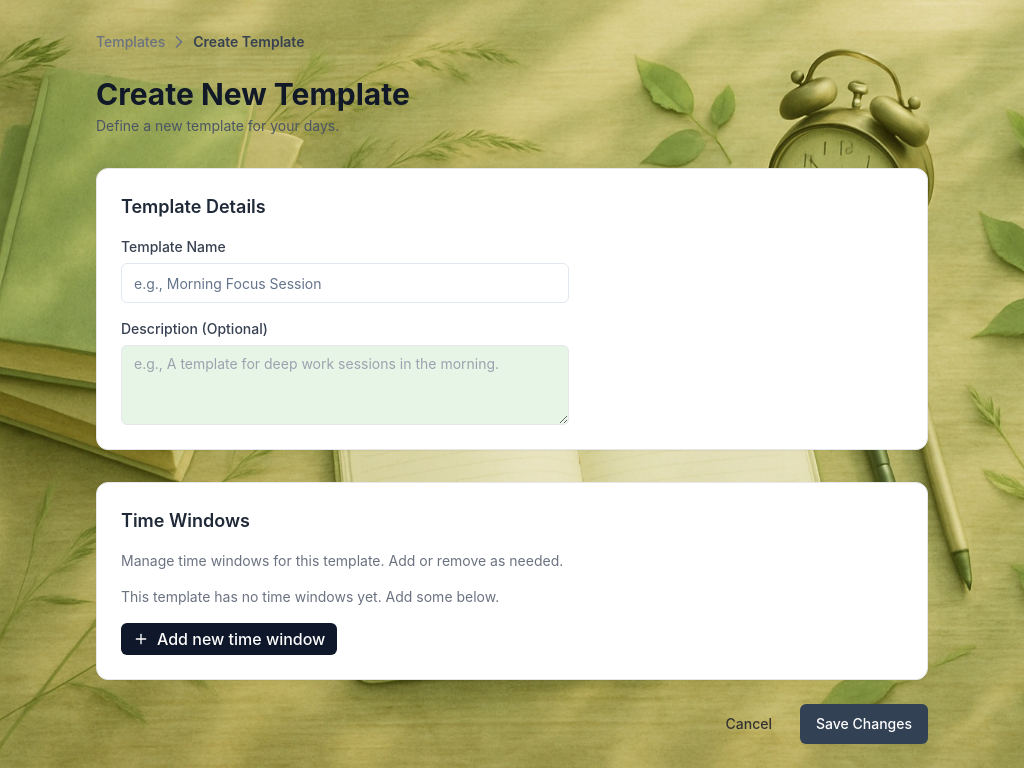
Test: EditTemplatePage › Create Mode › shows validation errors for template name
Click the button "Save Changes".
click(864, 724)  # box [800,704,928,744]
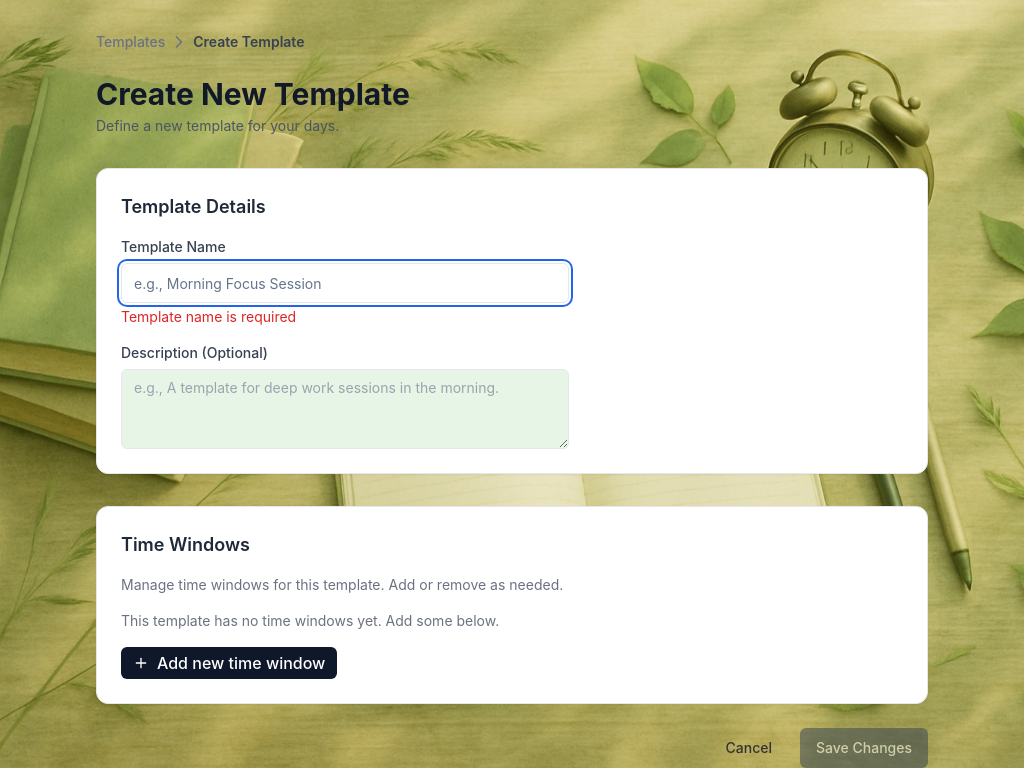
Check: the text "Template name is required" is shown, box [121,308,296,325]
